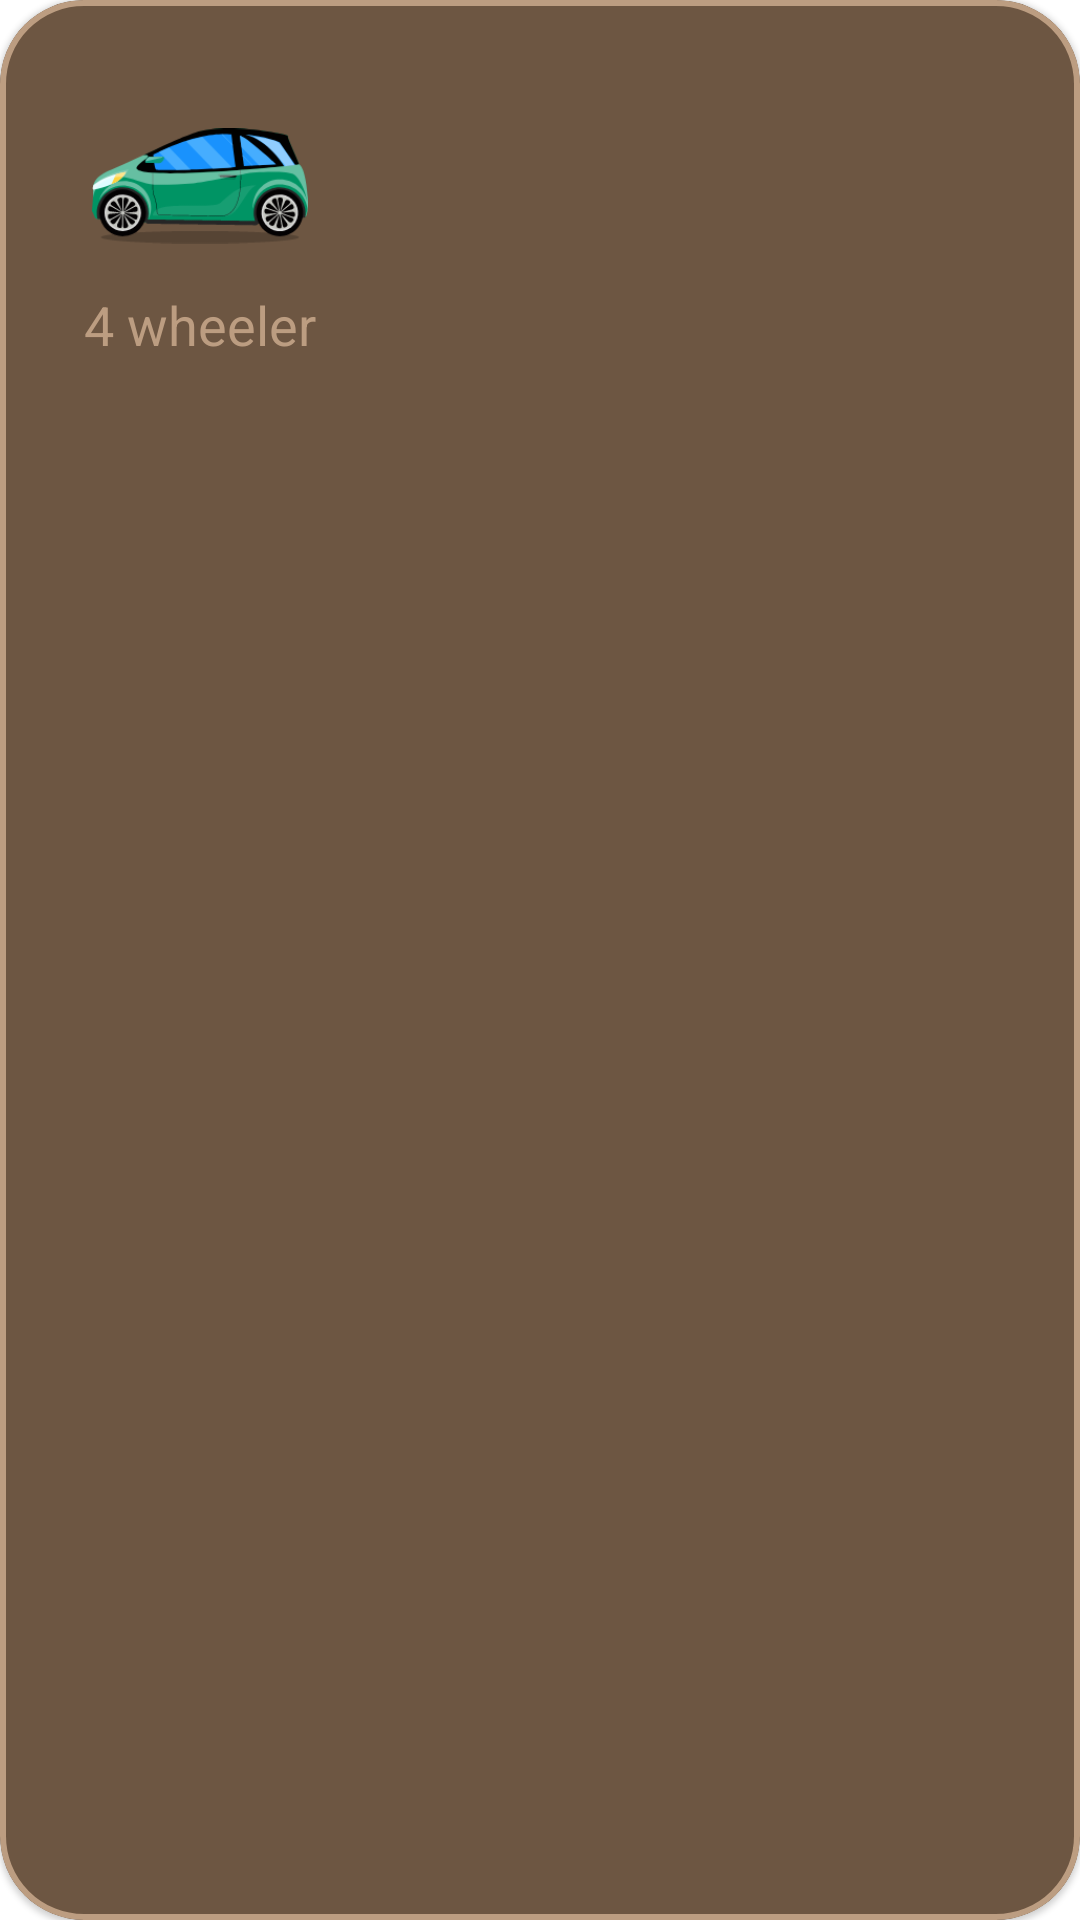

Icons on this 1080 × 1920 Android screen, each with its box as (x1, y1, x2, y2):
car: (92, 128, 308, 237)
